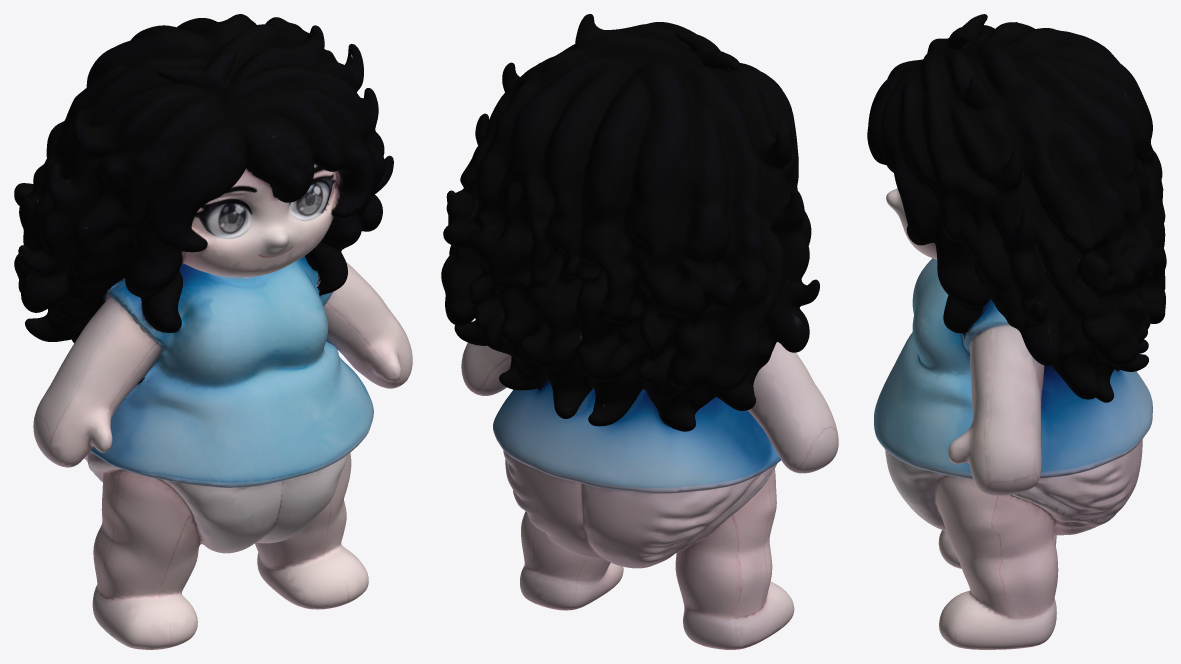
File: nacy.glb
The picture shows the model from 3 angles, left to right: view 1: azimuth 30°, elevation 25°; view 2: azimuth 150°, elevation 25°; view 3: azimuth 270°, elevation 25°; orthographic projection. The views are drawn at different scales.
Visible parts, largest first — view 1: temp_mesh.ply; view 2: temp_mesh.ply; view 3: temp_mesh.ply.
Part boxes in pixels (left/top/right/bottom): temp_mesh.ply: left=14, top=14, right=412, bottom=649; temp_mesh.ply: left=441, top=14, right=838, bottom=649; temp_mesh.ply: left=867, top=14, right=1166, bottom=649.
Size of the model in its own units: 6.63 by 9.76 by 4.73.
1 material, 1 textured.
